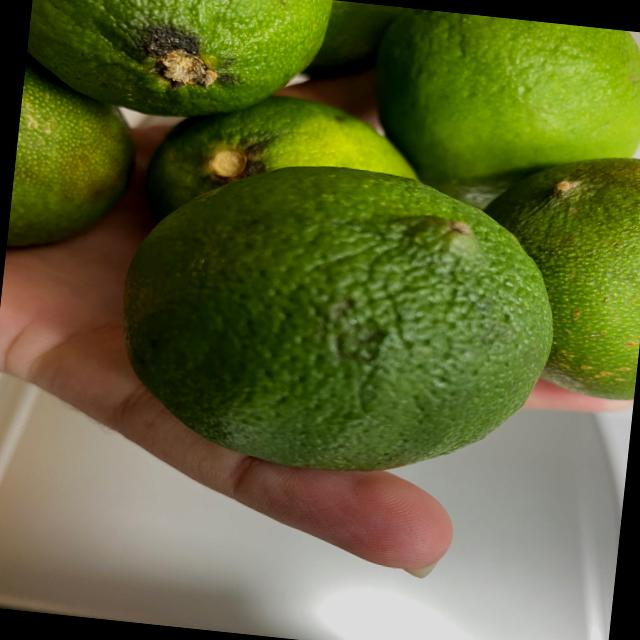lemon: (0, 0, 640, 494)
